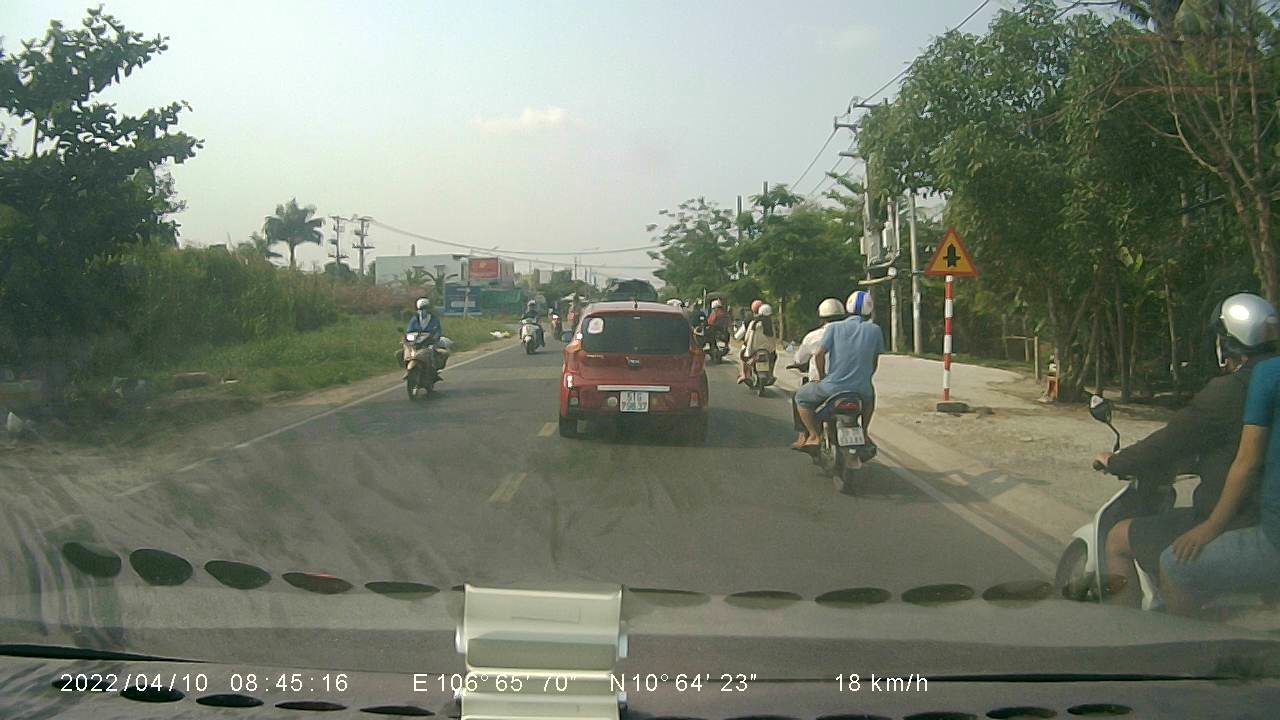Giao nhau voi duong khong uu tien: (922, 220, 979, 279)
